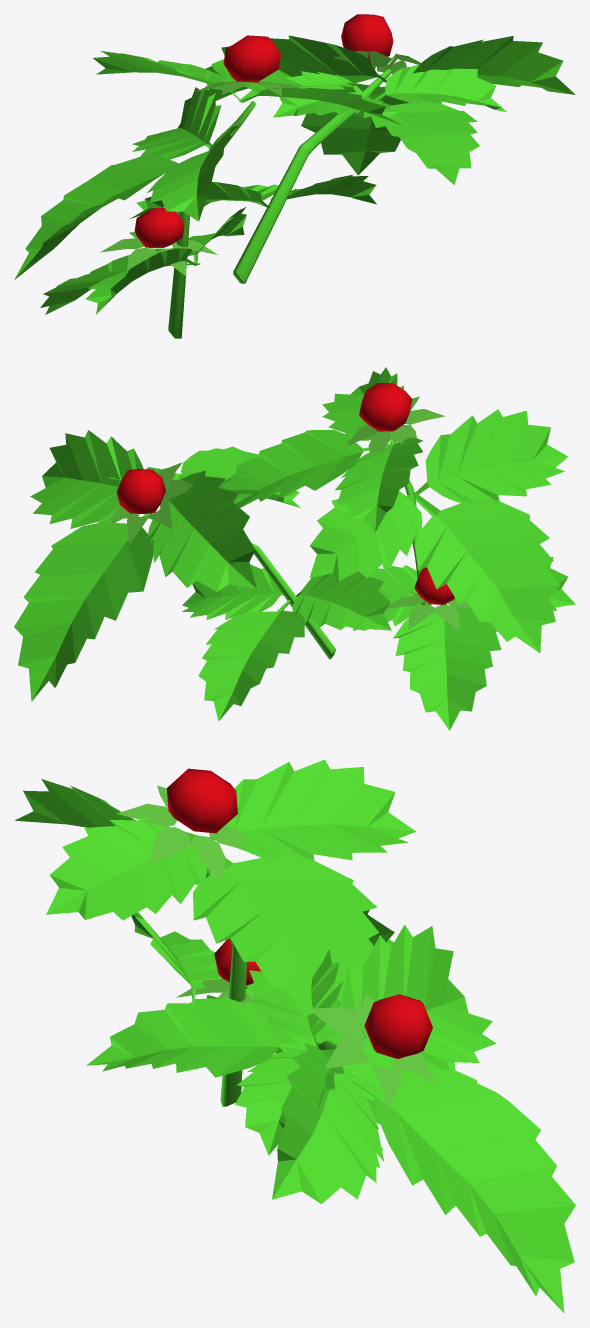
File: へびいちご.fbx
The picture shows the model from 3 angles, top to bottom: view 1: azimuth 30°, elevation 25°; view 2: azimuth 150°, elevation 25°; view 3: azimuth 270°, elevation 25°; orthographic projection. The views are drawn at different scales.
Visible parts, largest first — view 1: eda.033; view 2: eda.033; view 3: eda.033.
Boxes of the visible parts, x1=… form: eda.033: x1=14, y1=14, x2=575, y2=338; eda.033: x1=14, y1=367, x2=575, y2=730; eda.033: x1=14, y1=759, x2=575, y2=1312.
Size of the model in its own units: 25.63 by 13.31 by 17.55.
